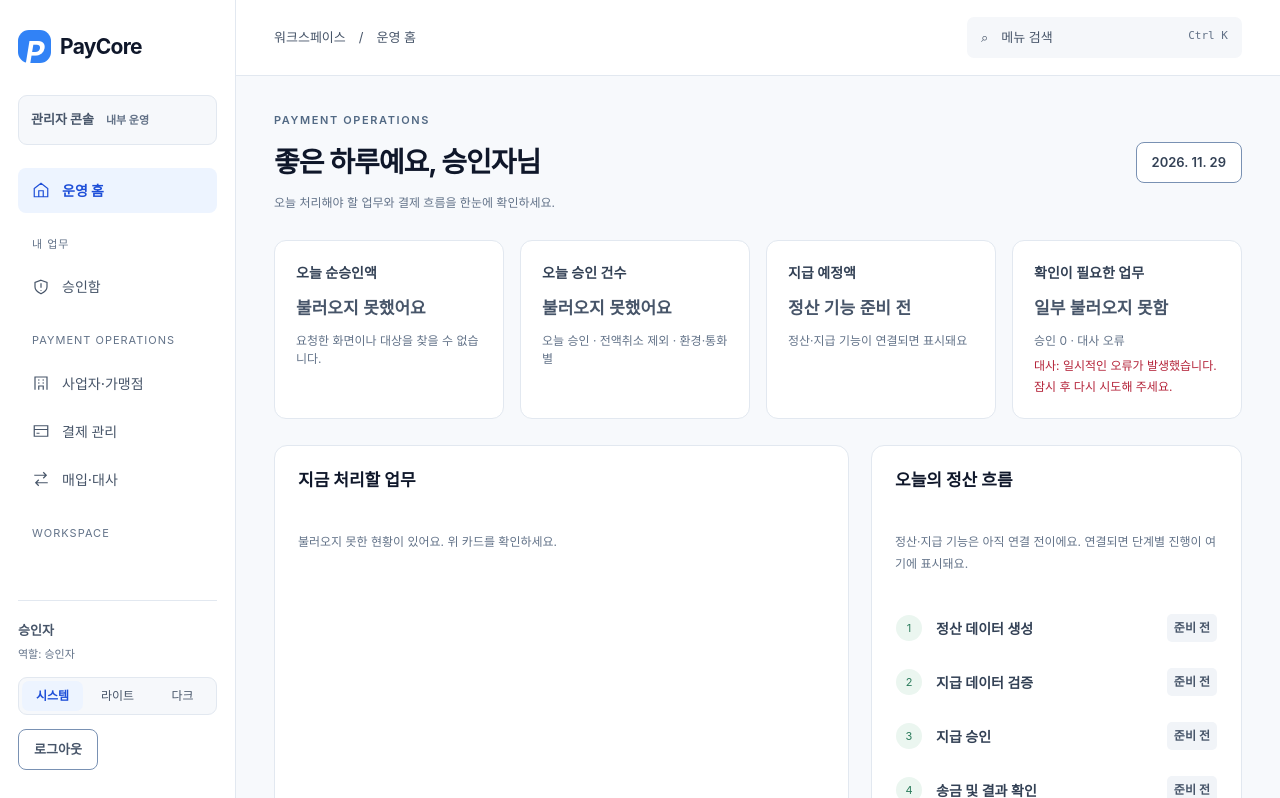
Test case: App — 사업자 상세 연결 가맹점 → 가맹점 상세(B5) › "상세" opens the 가맹점 tab on that merchant detail (one detail read), the 가맹점 tab selected
What coordinates should you click on to do the following:
click the button "사업자·가맹점"
I would click on:
 (118, 383)
Its box is x1=18 y1=360 x2=217 y2=406.
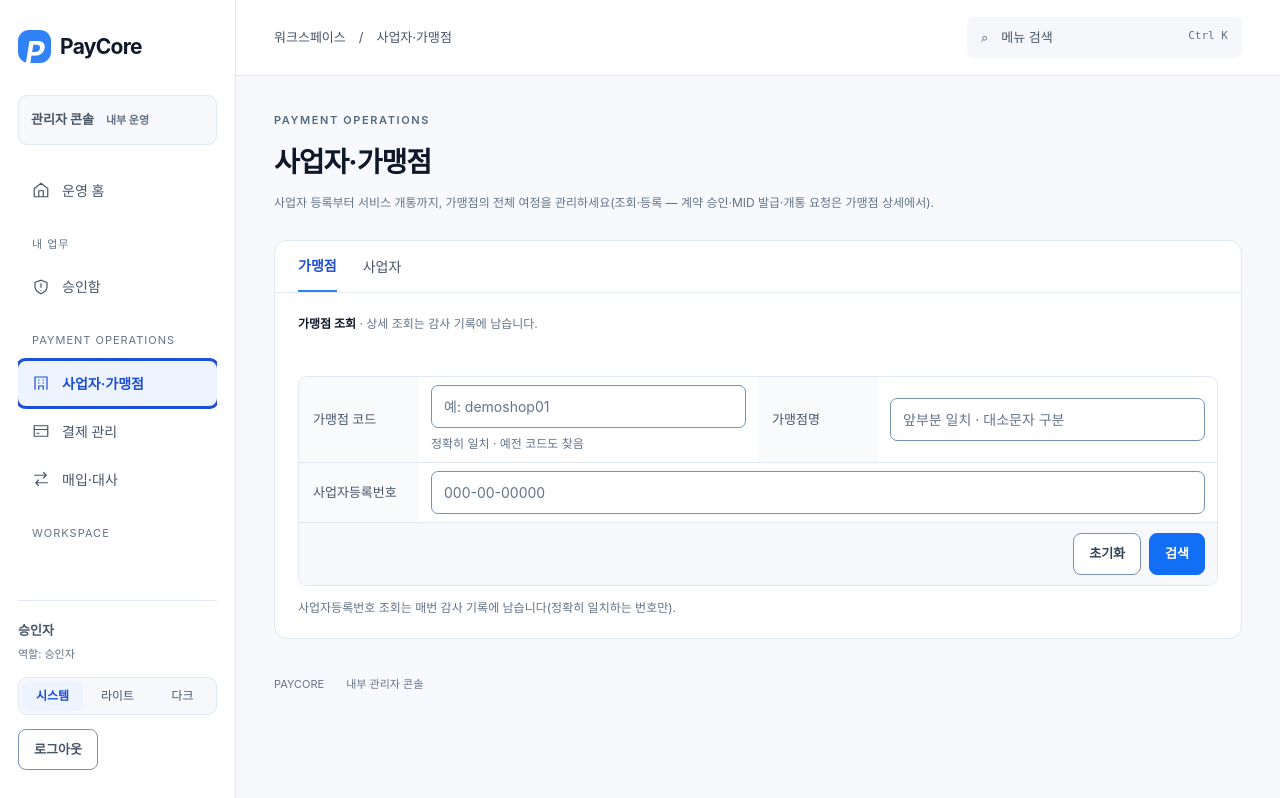
What coordinates should you click on to do the following:
click the tab "사업자"
I would click on:
 (382, 266)
Its box is x1=363 y1=241 x2=401 y2=292.
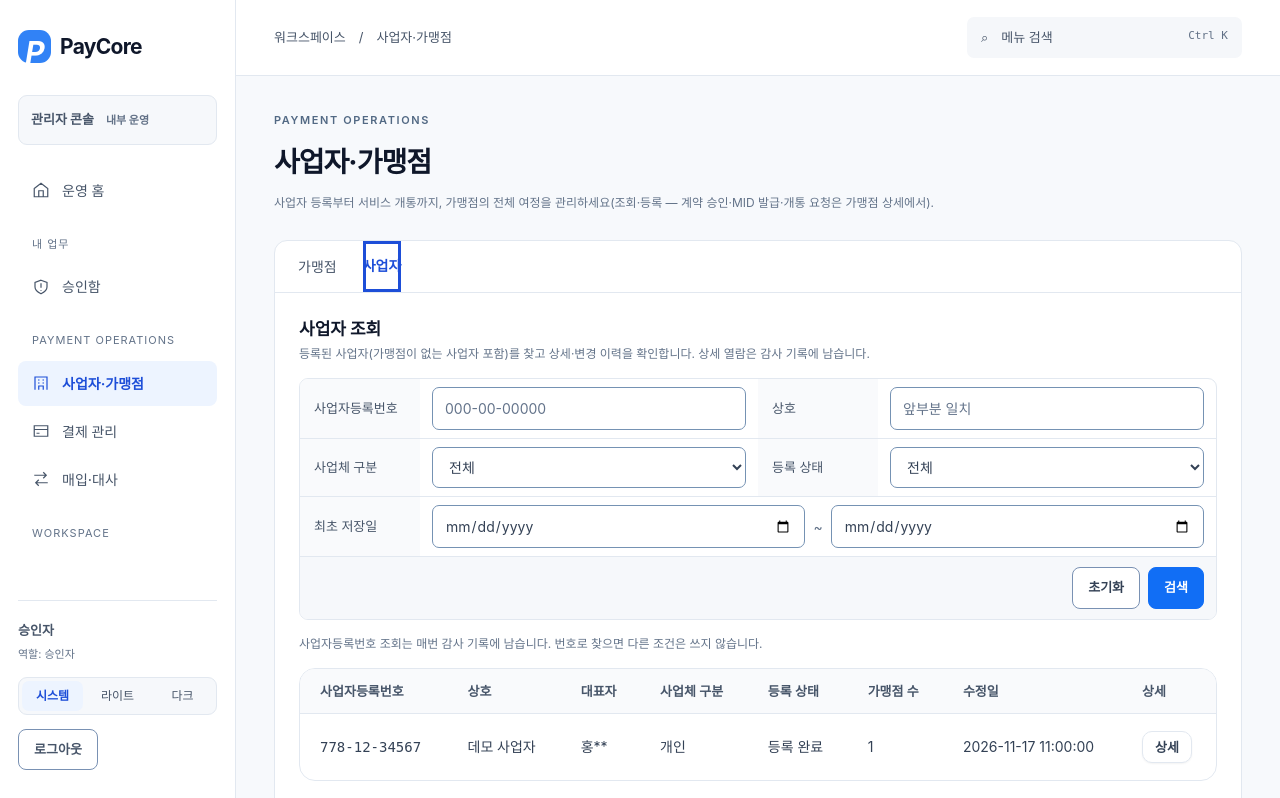
What coordinates should you click on to do the following:
click the button with aria-label "데모 사업자 상세"
I would click on:
 (1167, 748)
Its box is x1=1142 y1=732 x2=1192 y2=764.
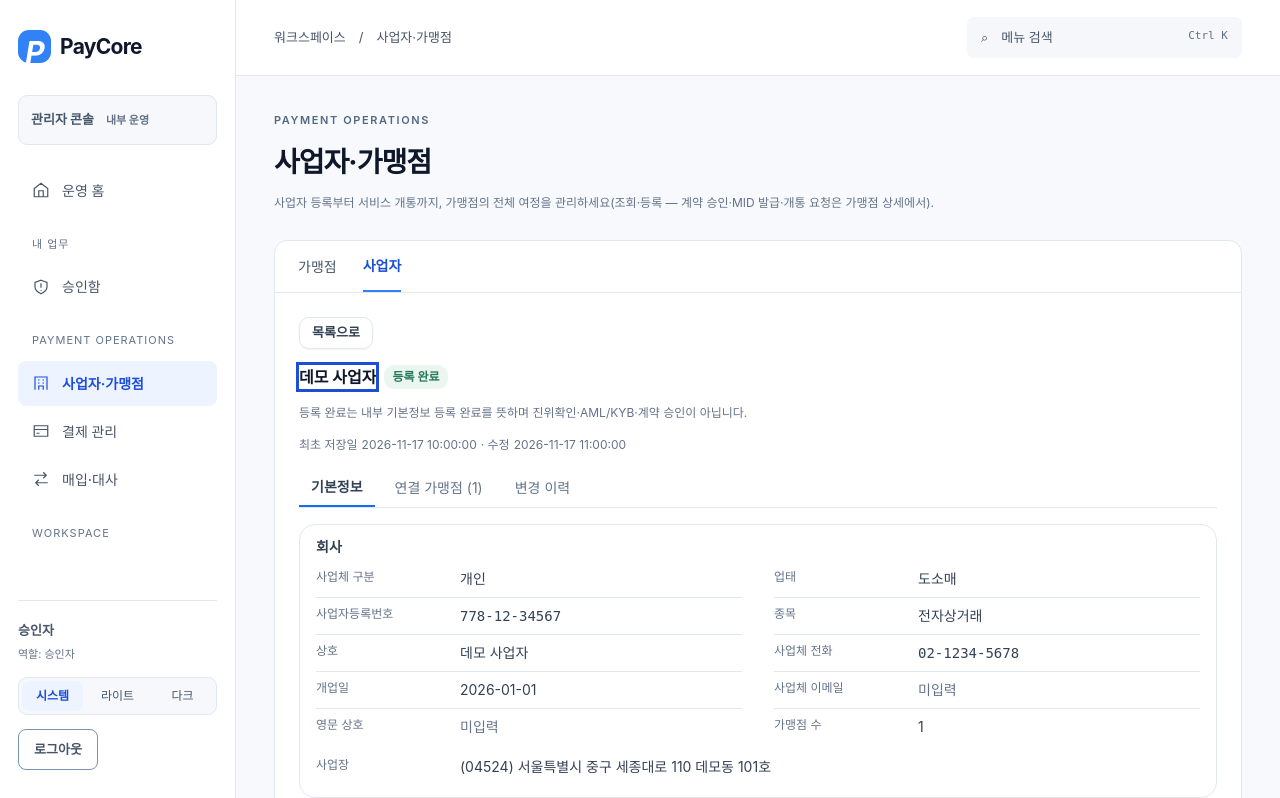
What coordinates should you click on to do the following:
click the tab "연결 가맹점 (1)"
I would click on:
 (439, 488)
Its box is x1=382 y1=469 x2=495 y2=507.
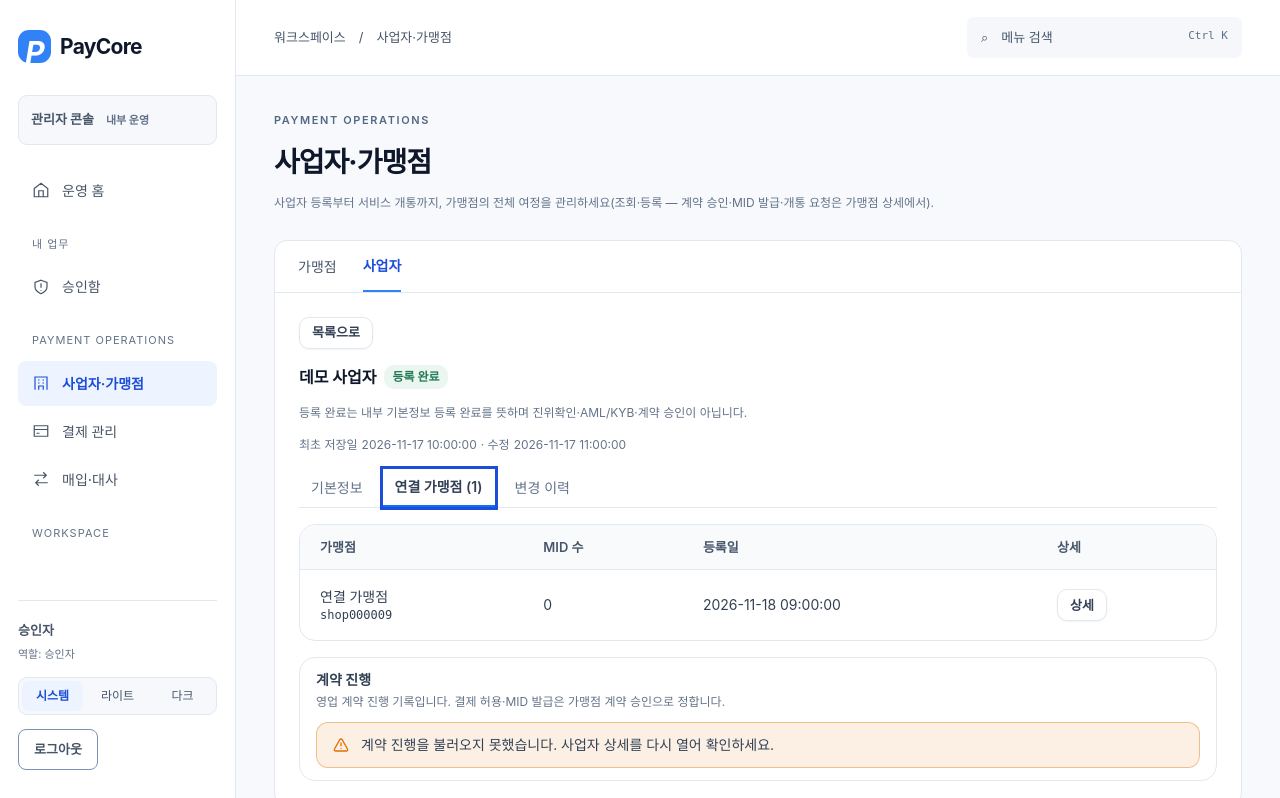
What coordinates should you click on to do the following:
click the button with aria-label "연결 가맹점 가맹점 상세"
I would click on:
 (1082, 606)
Its box is x1=1057 y1=590 x2=1107 y2=622.
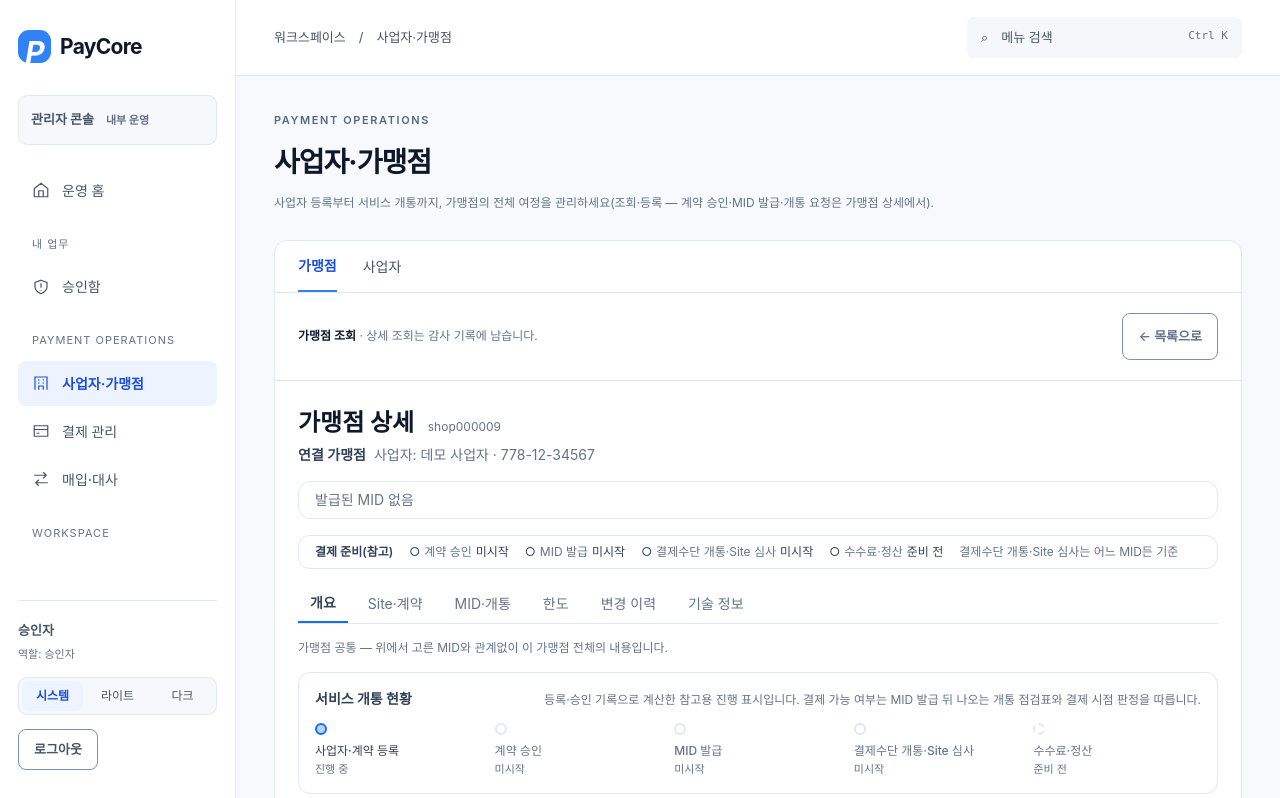
Expected: the heading "가맹점 상세 shop000009" is shown, x1=298 y1=408 x2=501 y2=437
